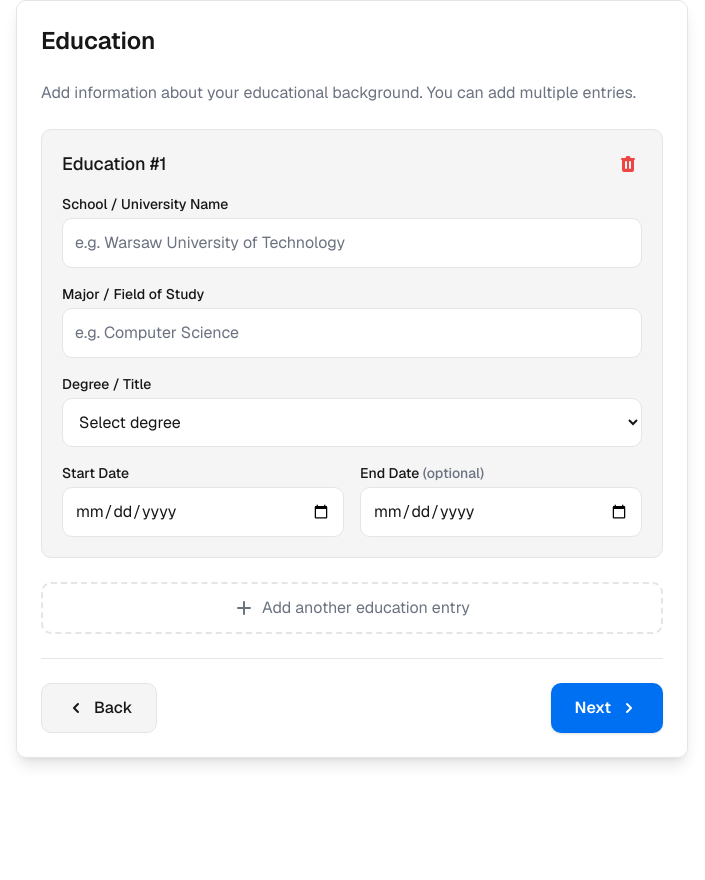
Test: EducationForm Component › Walidacja i przesyłanie (Submit) › powinien pokazać komunikaty o błędach, jeśli podjęto próbę wysłania pustego formularza
This screenshot has width=705, height=880.
Click the button "Next": (607, 708) [551, 683, 663, 733]
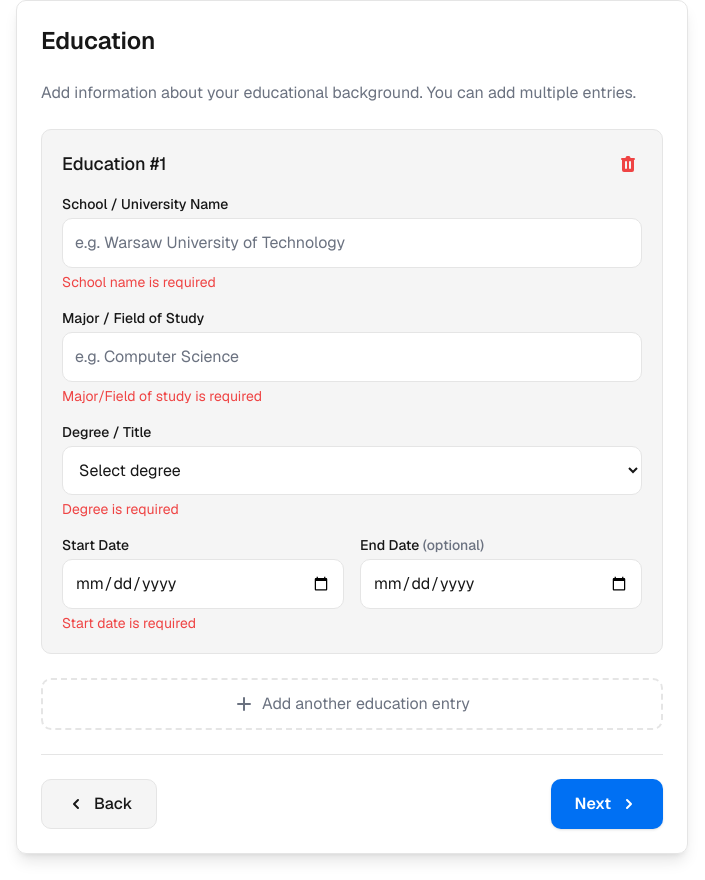
Expected: the text "School name is required" is shown, [62, 273, 216, 291]
Expected: the text "Major/Field of study is required" is shown, [62, 387, 262, 405]
Expected: the text "Degree is required" is shown, [62, 500, 179, 518]
